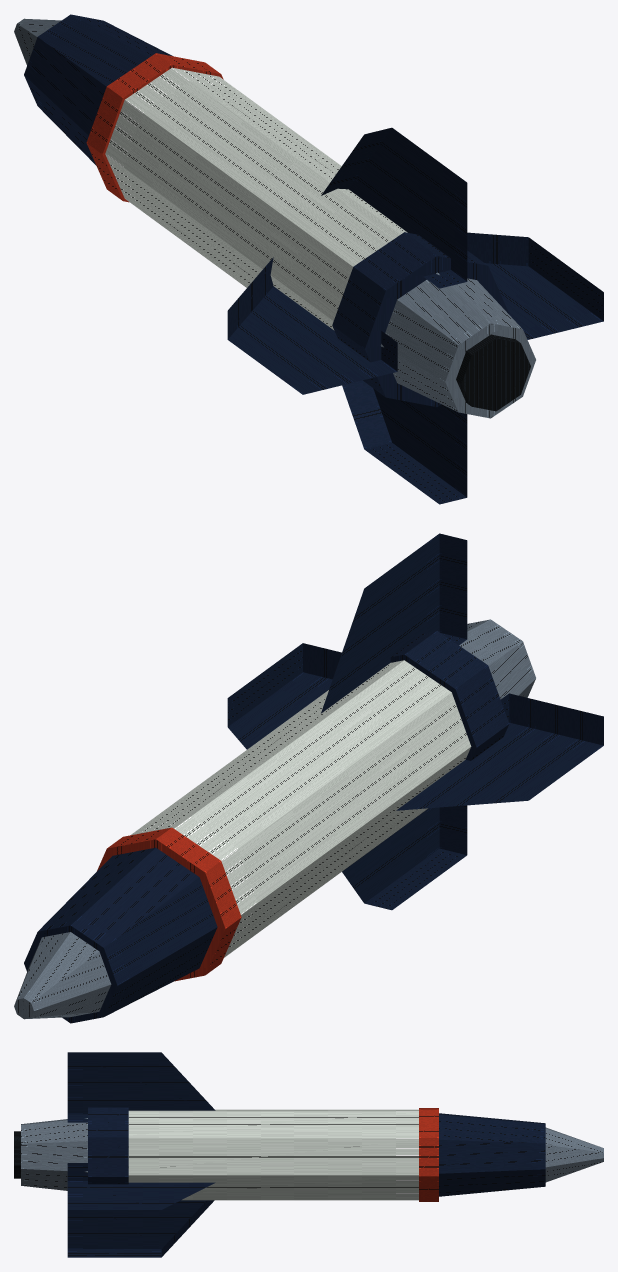
File: swarm.glb
3 views of the same model, one above another, from view 1: azimuth 30°, elevation 25°; view 2: azimuth 150°, elevation 25°; view 3: azimuth 270°, elevation 25° (orthographic). The views are drawn at different scales.
Parts seen in each view (by area): view 1: swarm-ordnance; view 2: swarm-ordnance; view 3: swarm-ordnance.
Part boxes in pixels (<box>): swarm-ordnance: <box>14,14,603,504</box>; swarm-ordnance: <box>14,533,603,1023</box>; swarm-ordnance: <box>14,1052,603,1257</box>.
Size of the model in its own units: 0.54 by 0.54 by 1.47.
1 material, 1 textured.
